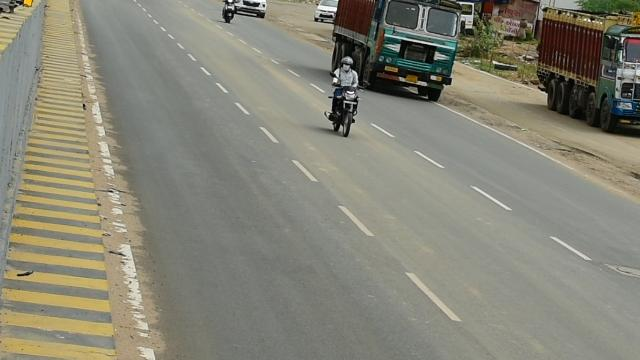With Helmet: (340, 54, 354, 76)
